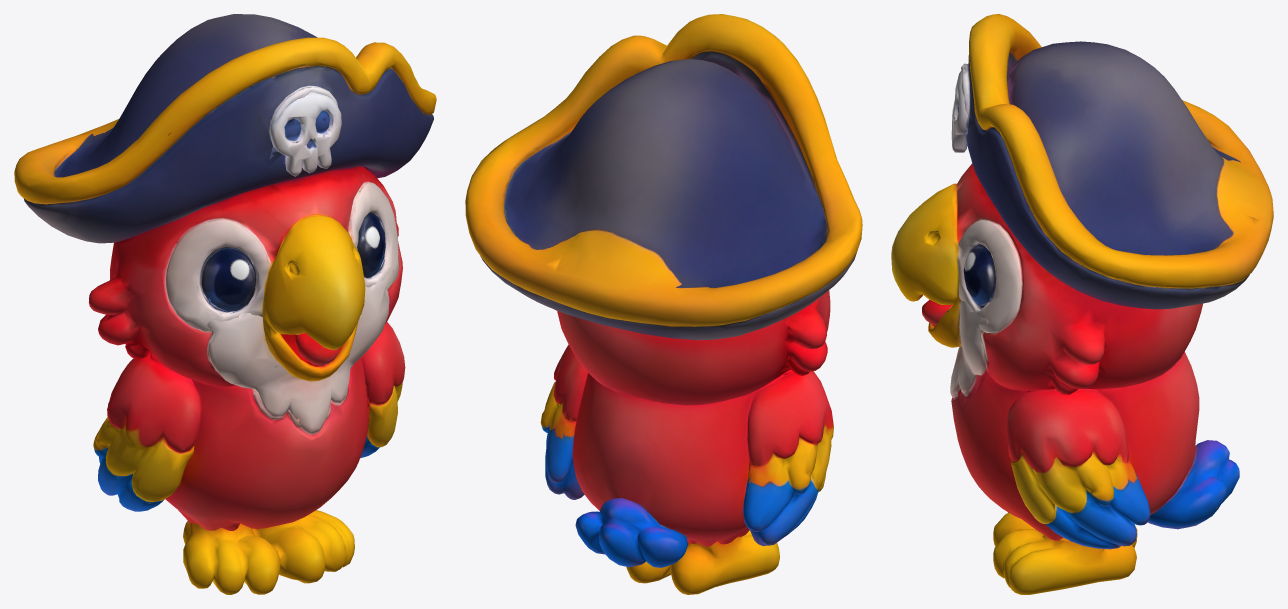
File: parrot.glb
3 views of the same model, side by side, from view 1: azimuth 30°, elevation 25°; view 2: azimuth 150°, elevation 25°; view 3: azimuth 270°, elevation 25° (orthographic). The views are drawn at different scales.
Parts seen in each view (by area): view 1: head, parrot, wing_r, wing_l; view 2: head, parrot, wing_r, tail, wing_l; view 3: head, parrot, wing_l, tail.
Boxes of the visible parts, x1,y1,x2,y2 form: head: (14, 14, 436, 386); parrot: (165, 256, 393, 594); wing_r: (93, 352, 201, 511); wing_l: (360, 322, 405, 457); head: (465, 14, 862, 405); parrot: (572, 373, 779, 594); wing_r: (743, 369, 833, 546); tail: (575, 498, 687, 567); wing_l: (540, 345, 587, 499); head: (891, 14, 1273, 394); parrot: (950, 297, 1199, 594); wing_l: (1006, 389, 1150, 549); tail: (1148, 440, 1239, 529).
Size of the model in its own units: 2.64 by 3.55 by 2.3.
Materials: 9 (9 with a texture image).
